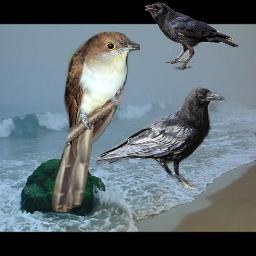Crow: (93, 85, 226, 190), (145, 2, 239, 70)
Cuckoo: (52, 30, 140, 212)
